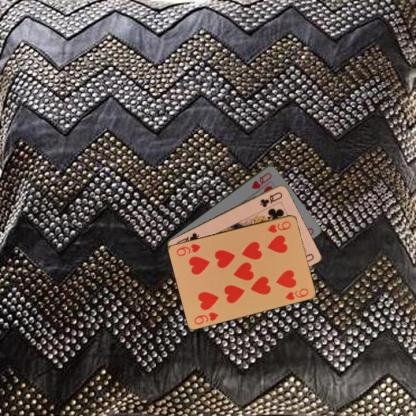9h: (265, 218, 292, 234), (192, 309, 219, 325)
Qc: (258, 189, 284, 208)
Qh: (249, 170, 273, 190)
